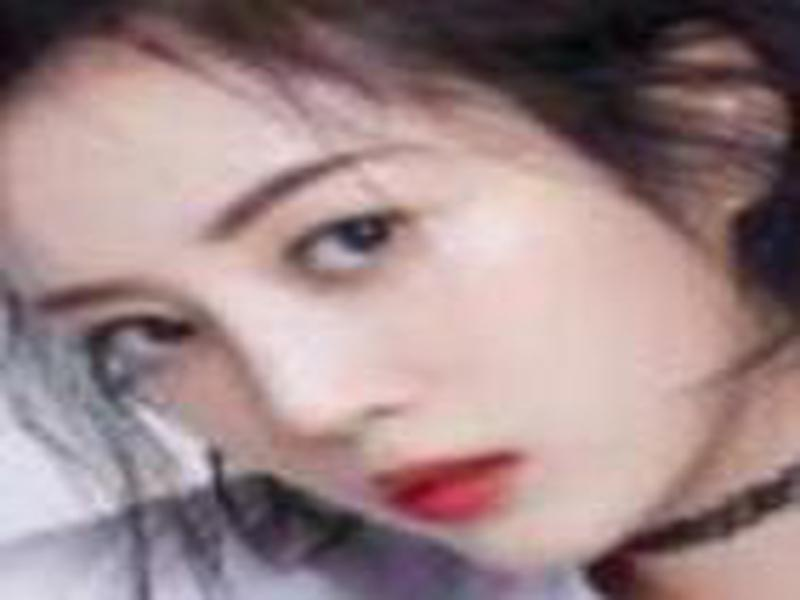without_mask: (2, 27, 710, 544)
